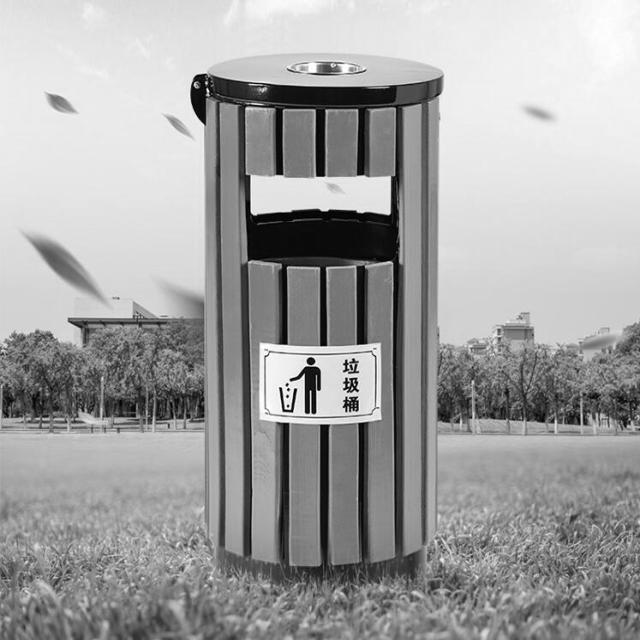ash bin: (176, 47, 455, 585)
